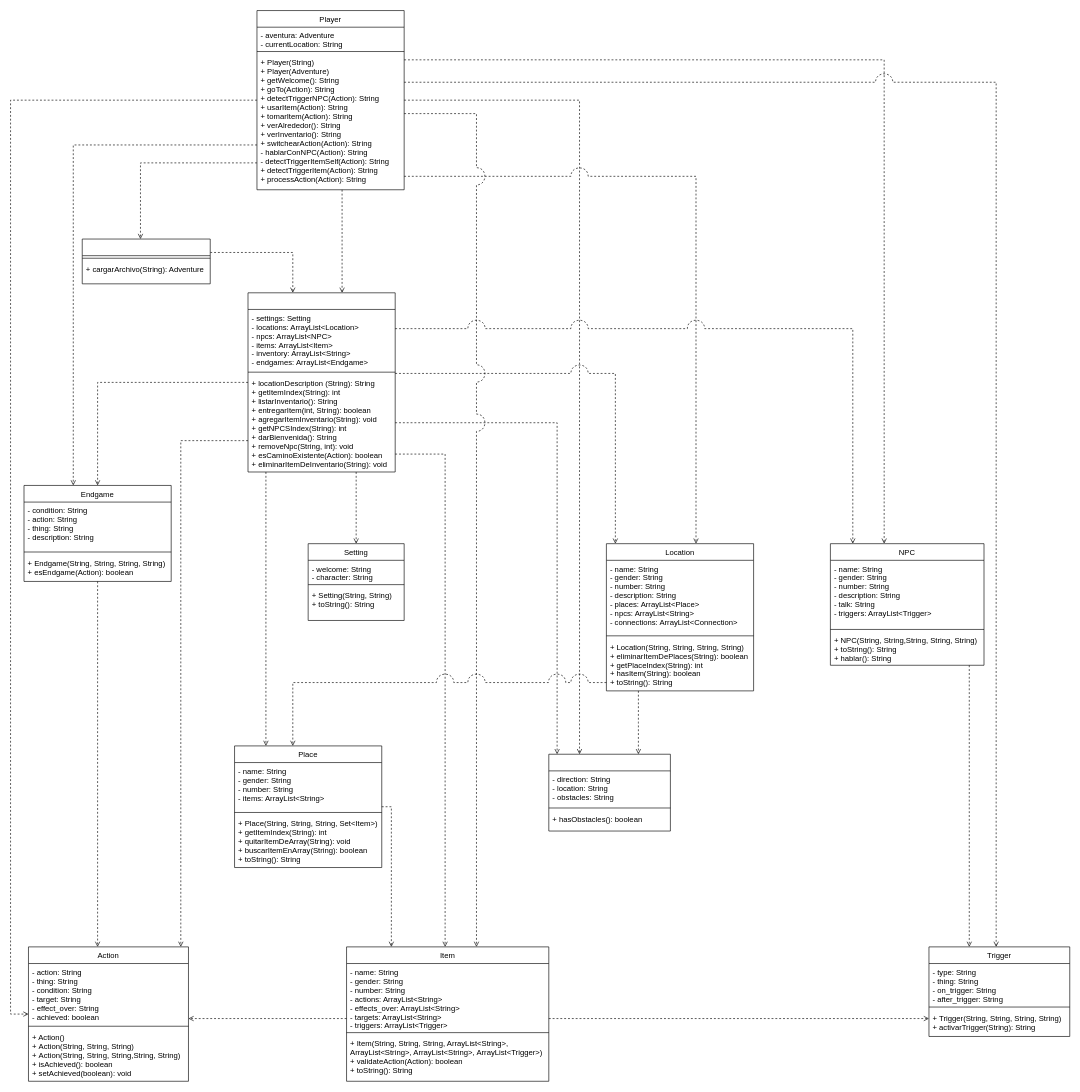
Some shapes in this 1080 by 1092 pixel diagram are drawn without their labels. Here are the shapes that lost their labels. From the top down, the box of each, then its label:
(82, 238, 210, 284): LoadAdventure
(247, 292, 395, 472): Adventure
(548, 754, 670, 831): Connection
